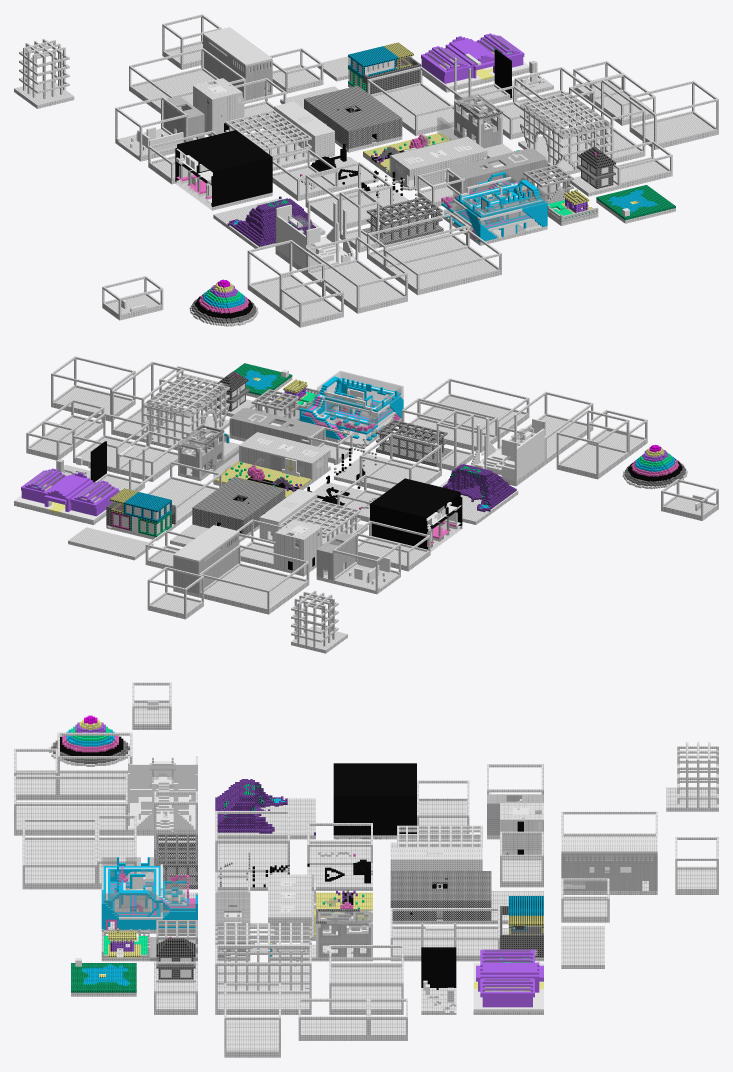
File: Scripting-v1.glb
3 views of the same model, one above another, from view 1: azimuth 30°, elevation 25°; view 2: azimuth 150°, elevation 25°; view 3: azimuth 270°, elevation 25° (orthographic). The views are drawn at different scales.
Parts seen in each view (by area): view 1: solid-voxels_51.017, solid-voxels_52.017, solid-voxels_21.021, solid-voxels_50.017, solid-voxels_33.021, solid-voxels_10.022, solid-voxels_49.019, solid-voxels.022, solid-voxels_19.022, solid-voxels_46.021, solid-voxels_27.021, solid-voxels_38.021 (+46 smaller); view 2: solid-voxels_51.017, solid-voxels_52.017, solid-voxels_2.022, solid-voxels_50.017, solid-voxels_19.022, solid-voxels_21.021, solid-voxels_49.019, solid-voxels_46.021, solid-voxels_31.021, solid-voxels_27.021, solid-voxels_55.016, solid-voxels_33.021 (+47 smaller); view 3: solid-voxels_51.017, solid-voxels_49.019, solid-voxels_50.017, solid-voxels_52.017, solid-voxels_19.022, solid-voxels_55.016, solid-voxels_33.021, solid-voxels_10.022, solid-voxels_21.021, solid-voxels.022, solid-voxels_14.022, solid-voxels_6.022 (+44 smaller).
Boxes of the visible parts, x1,y1,x2,y2 form: solid-voxels_51.017: (175,130,272,210); solid-voxels_52.017: (518,93,611,175); solid-voxels_21.021: (453,176,547,245); solid-voxels_50.017: (304,85,402,152); solid-voxels_33.021: (384,229,501,295); solid-voxels_10.022: (307,236,407,313); solid-voxels_49.019: (203,27,272,100); solid-voxels.022: (367,66,469,135); solid-voxels_19.022: (275,200,355,276); solid-voxels_46.021: (420,36,494,92); solid-voxels_27.021: (390,136,487,190); solid-voxels_38.021: (629,80,718,149); solid-voxels_51.017: (370,478,462,551); solid-voxels_52.017: (143,375,229,450); solid-voxels_2.022: (198,544,309,614); solid-voxels_50.017: (192,477,285,539); solid-voxels_19.022: (470,414,545,486); solid-voxels_21.021: (315,376,403,437); solid-voxels_49.019: (173,525,239,597); solid-voxels_46.021: (36,472,118,524); solid-voxels_31.021: (106,488,175,540); solid-voxels_27.021: (239,432,330,482); solid-voxels_55.016: (439,464,518,524); solid-voxels_33.021: (420,378,529,438); solid-voxels_51.017: (333,763,416,839); solid-voxels_49.019: (561,836,657,894); solid-voxels_50.017: (390,871,491,924); solid-voxels_52.017: (215,923,311,990); solid-voxels_19.022: (128,756,197,835); solid-voxels_55.016: (215,779,315,839); solid-voxels_33.021: (22,819,97,889); solid-voxels_10.022: (14,776,127,835); solid-voxels_21.021: (101,857,162,933); solid-voxels.022: (390,908,499,961); solid-voxels_14.022: (215,945,311,1014); solid-voxels_6.022: (215,811,289,872).
Size of the model in its own units: 190 by 13 by 161.
Materials: 2 (1 with a texture image).
